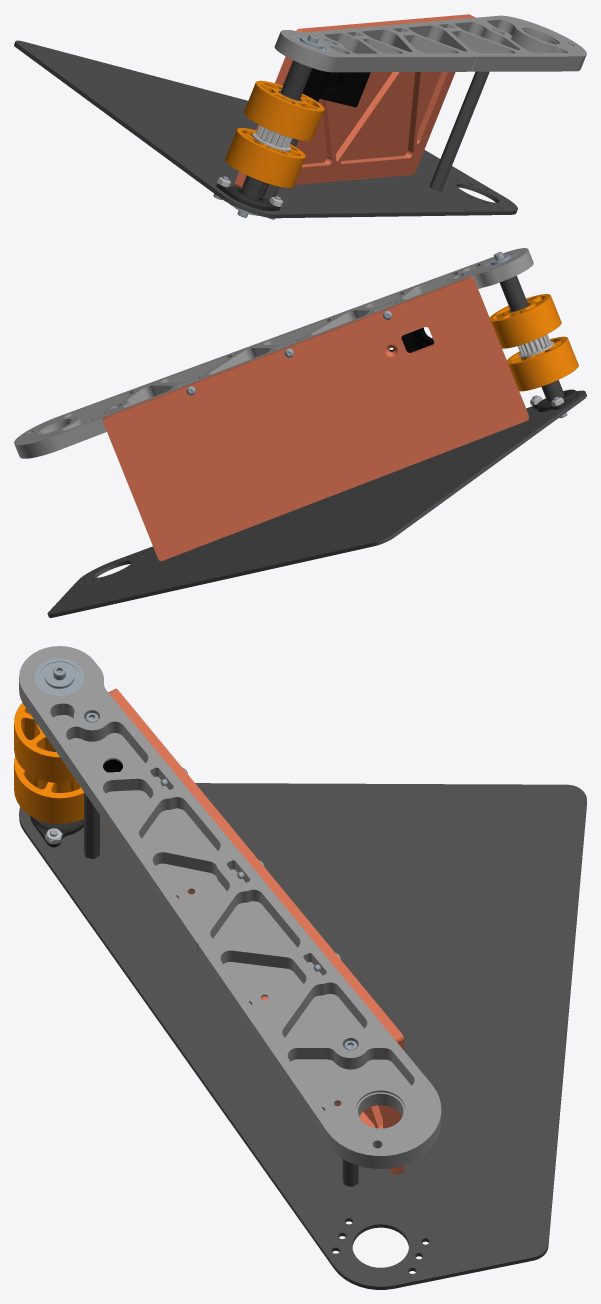
Rendered from Funnel Right.glb.
3 renders of one model, top to bottom at view 1: azimuth 30°, elevation 25°; view 2: azimuth 150°, elevation 25°; view 3: azimuth 270°, elevation 25°, orthographic. The views are drawn at different scales.
Parts seen in each view (by area): view 1: FUNNEL FLAP, RIGHT, FUNNEL WING TOP PLATE, RIGHT, FUNNEL WALL, RIGHT, am-3950 2.25N OverMolded 375Hex Compliant Wheel V6 (×2), P-25A-0174, 3/8" ThunderHex (4.75 in), Spacer (Configurable) (×2), BEARING HAT, 18t 9mm Wide 1/2" Hex Bore Double Flange 5mm HTD Aluminum Pu; view 2: FUNNEL WALL, RIGHT, FUNNEL FLAP, RIGHT, FUNNEL WING TOP PLATE, RIGHT, am-3950 2.25N OverMolded 375Hex Compliant Wheel V6 (×2), Spacer (Configurable), P-25A-0174, 18t 9mm Wide 1/2" Hex Bore Double Flange 5mm HTD Aluminum Pu; view 3: FUNNEL FLAP, RIGHT, FUNNEL WING TOP PLATE, RIGHT, FUNNEL WALL, RIGHT, am-3950 2.25N OverMolded 375Hex Compliant Wheel V6 (×2), .375" Hex ID 1.125" OD Flanged Bearing (217-2735), 3/8" ThunderHex (4.75 in).
Part boxes in pixels (x1,y1,x2,y2): FUNNEL FLAP, RIGHT: [14, 40, 517, 218]; FUNNEL WING TOP PLATE, RIGHT: [274, 15, 586, 72]; FUNNEL WALL, RIGHT: [234, 14, 475, 187]; am-3950 2.25N OverMolded 375Hex Compliant Wheel V6 (×2): [225, 80, 324, 188]; P-25A-0174: [302, 68, 370, 107]; 3/8" ThunderHex (4.75 in): [429, 71, 489, 191]; Spacer (Configurable) (×2): [240, 60, 312, 200]; BEARING HAT: [216, 183, 280, 210]; 18t 9mm Wide 1/2" Hex Bore Double Flange 5mm HTD Aluminum Pu: [252, 125, 291, 151]; FUNNEL WALL, RIGHT: [103, 276, 528, 561]; FUNNEL FLAP, RIGHT: [47, 390, 586, 617]; FUNNEL WING TOP PLATE, RIGHT: [14, 248, 533, 458]; am-3950 2.25N OverMolded 375Hex Compliant Wheel V6 (×2): [489, 294, 578, 391]; Spacer (Configurable): [500, 275, 527, 311]; P-25A-0174: [389, 327, 433, 352]; 18t 9mm Wide 1/2" Hex Bore Double Flange 5mm HTD Aluminum Pu: [517, 334, 554, 358]; FUNNEL FLAP, RIGHT: [19, 783, 586, 1289]; FUNNEL WING TOP PLATE, RIGHT: [19, 646, 441, 1168]; FUNNEL WALL, RIGHT: [107, 688, 404, 1175]; am-3950 2.25N OverMolded 375Hex Compliant Wheel V6 (×2): [14, 702, 83, 823]; .375" Hex ID 1.125" OD Flanged Bearing (217-2735): [34, 658, 84, 695]; 3/8" ThunderHex (4.75 in): [84, 792, 99, 858].
Size of the model in its own units: 0.4359 by 0.2979 by 0.3592.
